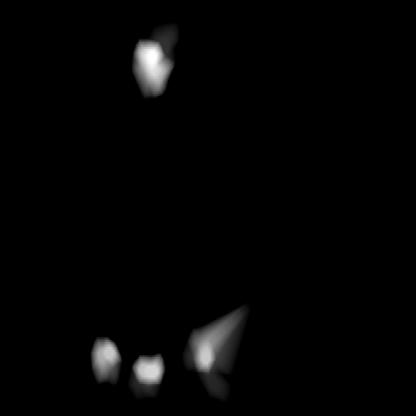fingers: (132, 35, 170, 98)
palm: (92, 323, 226, 386)
